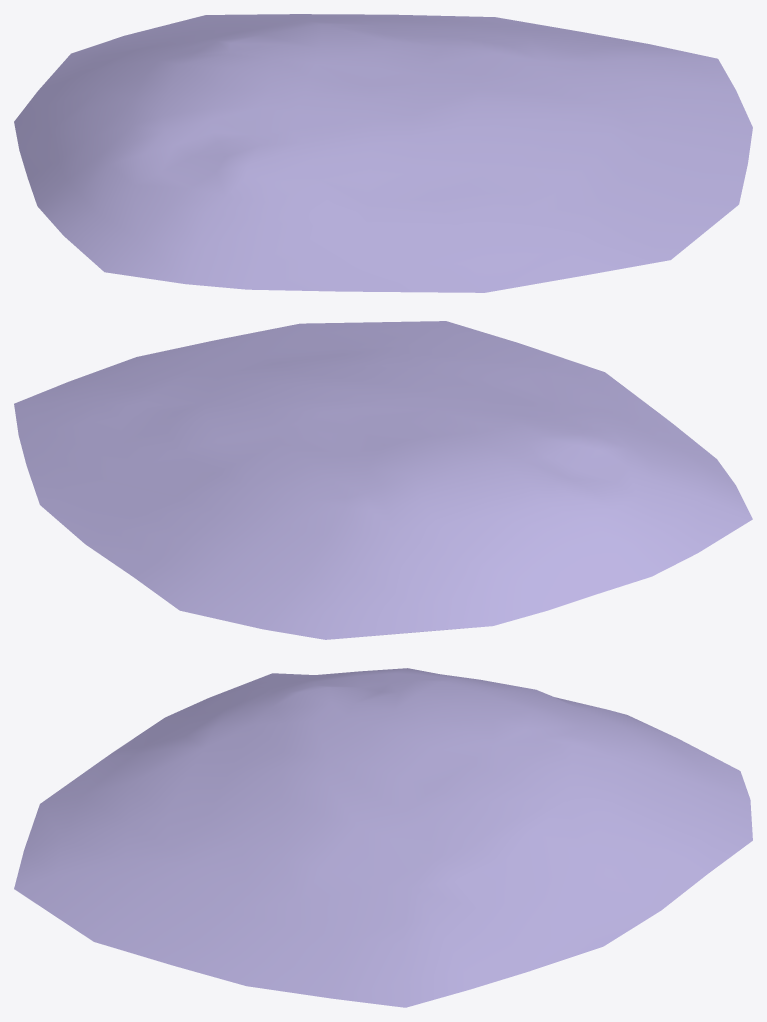
Rendered from Coffin_04C_Lod0.fbx.
3 renders of one model, top to bottom at view 1: azimuth 30°, elevation 25°; view 2: azimuth 150°, elevation 25°; view 3: azimuth 270°, elevation 25°, orthographic.
Visible parts, largest first — view 1: Coffin_04C_Lod0; view 2: Coffin_04C_Lod0; view 3: Coffin_04C_Lod0.
Boxes of the visible parts, left/top/right/bottom form: Coffin_04C_Lod0: left=14, top=14, right=752, bottom=292; Coffin_04C_Lod0: left=14, top=321, right=752, bottom=639; Coffin_04C_Lod0: left=14, top=668, right=752, bottom=1007.
Bounding box in the file's own units: 177 × 17.35 × 165.
